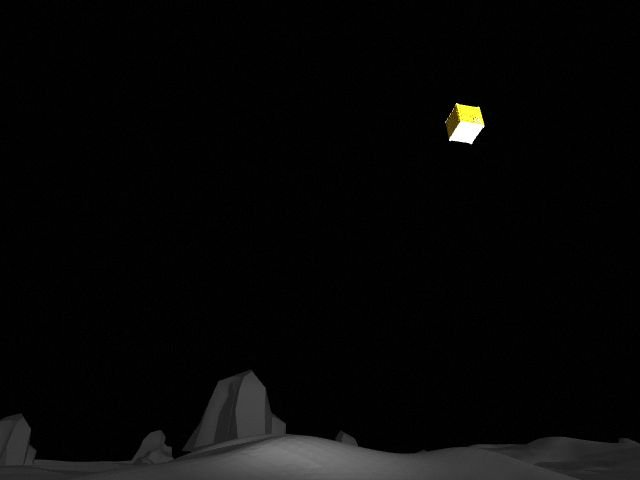cubesat: (440, 99, 490, 149)
